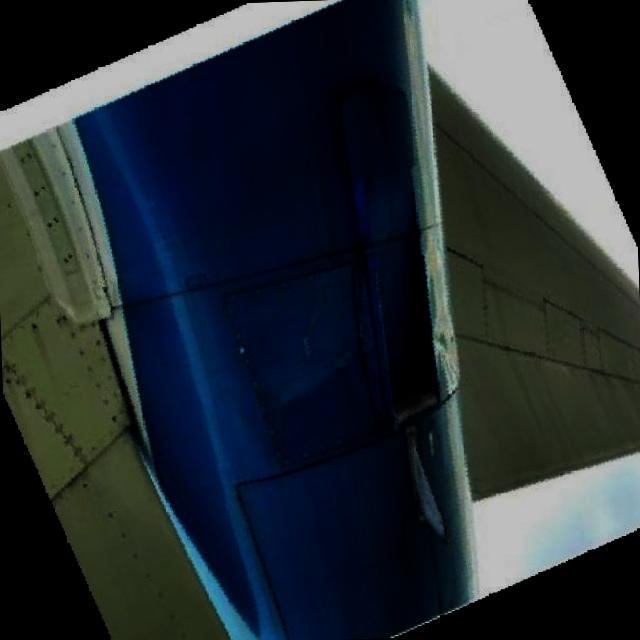dent: (225, 342, 393, 444)
